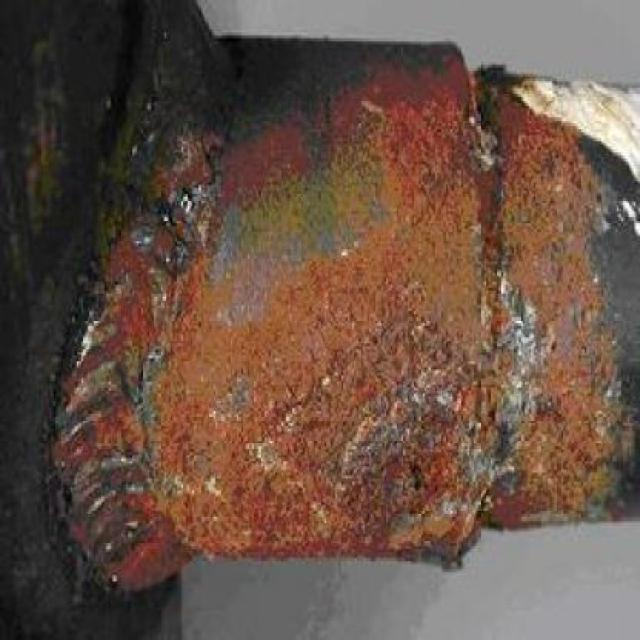corrosion: (57, 20, 640, 606)
